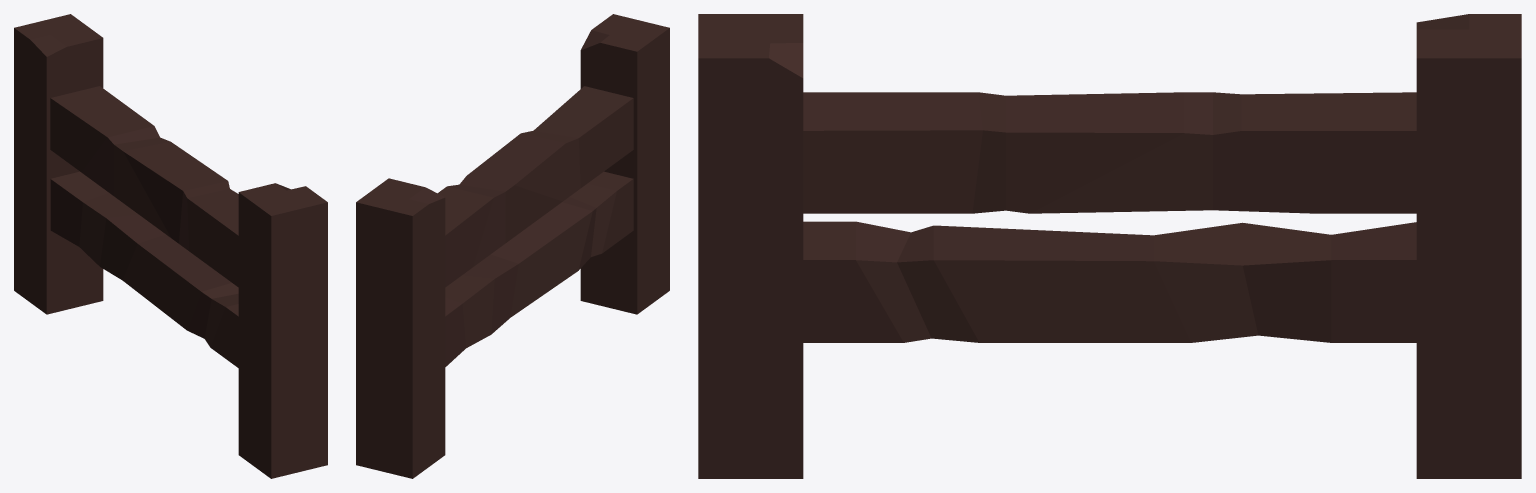
Rendered from fence.fbx.
3 views of the same model, side by side, from view 1: azimuth 30°, elevation 25°; view 2: azimuth 150°, elevation 25°; view 3: azimuth 270°, elevation 25° (orthographic). The views are drawn at different scales.
Parts seen in each view (by area): view 1: Cube.013; view 2: Cube.013; view 3: Cube.013.
Part boxes in pixels (x1=…): Cube.013: x1=14, y1=14, x2=327, y2=478; Cube.013: x1=356, y1=14, x2=669, y2=478; Cube.013: x1=698, y1=14, x2=1521, y2=478.
Bounding box in the file's own units: 0.3204 × 1.42 × 2.52.
